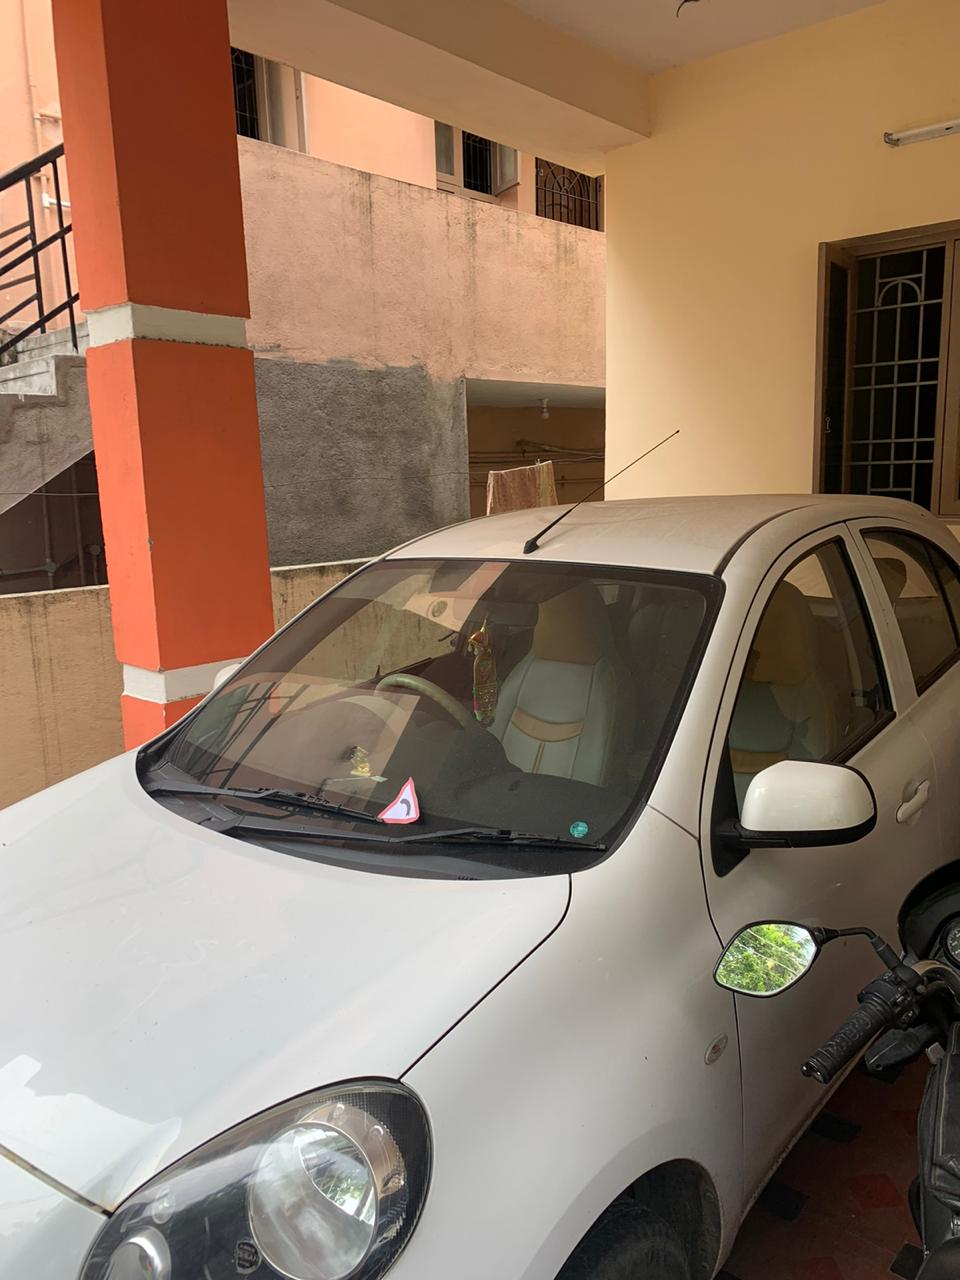LEFT CURVE: (364, 773, 428, 830)
